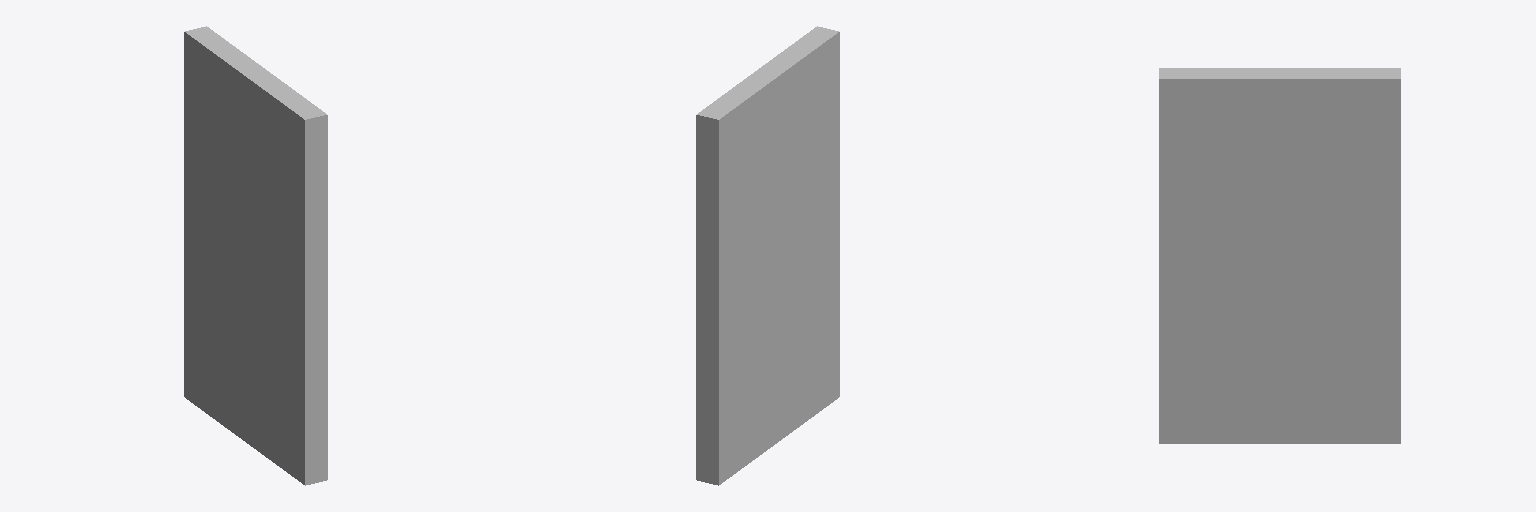
File: door.obj
3 views of the same model, side by side, from view 1: azimuth 30°, elevation 25°; view 2: azimuth 150°, elevation 25°; view 3: azimuth 270°, elevation 25° (orthographic).
Parts seen in each view (by area): view 1: Door_top_Cube.002, Door_bottom_Cube.001; view 2: Door_top_Cube.002, Door_bottom_Cube.001; view 3: Door_top_Cube.002, Door_bottom_Cube.001.
Boxes of the visible parts, x1,y1,x2,y2 form: Door_top_Cube.002: [184, 26, 327, 414]; Door_bottom_Cube.001: [184, 326, 327, 485]; Door_top_Cube.002: [696, 26, 839, 414]; Door_bottom_Cube.001: [696, 326, 839, 485]; Door_top_Cube.002: [1159, 68, 1400, 372]; Door_bottom_Cube.001: [1159, 372, 1400, 443].
Bounding box in the file's own units: 0.6516 × 10.18 × 6.09.